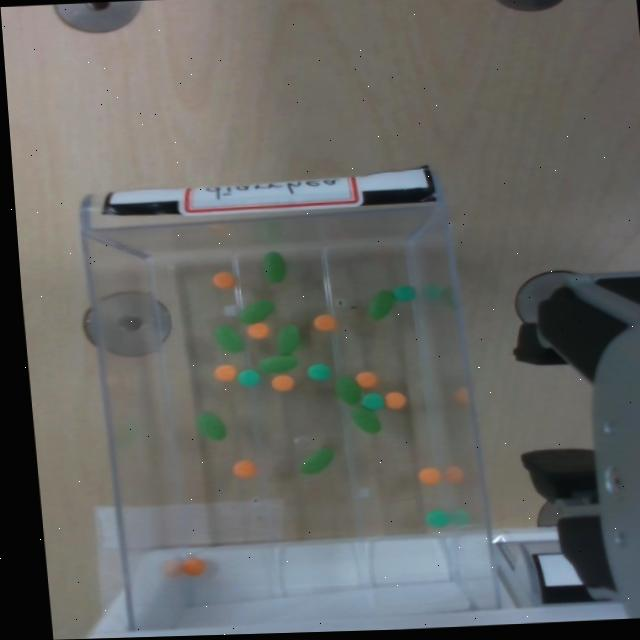famodine: (306, 362, 332, 382), (424, 509, 448, 528), (360, 392, 385, 410), (237, 368, 260, 386), (236, 368, 260, 385), (425, 509, 450, 525), (392, 284, 415, 301), (360, 391, 383, 408), (306, 363, 330, 379), (392, 284, 414, 299)
otillen_tab: (297, 445, 335, 474), (212, 322, 245, 354), (237, 297, 276, 324), (195, 410, 228, 441), (365, 288, 397, 319), (348, 403, 380, 433), (274, 322, 303, 354), (259, 249, 288, 281), (333, 373, 362, 404), (300, 446, 333, 473), (196, 411, 226, 439), (213, 323, 243, 351), (238, 298, 273, 322), (256, 353, 297, 373), (350, 404, 379, 431), (367, 289, 394, 317), (275, 323, 300, 353), (261, 250, 285, 281), (335, 374, 361, 402), (257, 354, 296, 372)
samsung_octylonium_tab: (178, 556, 206, 574), (232, 458, 255, 478), (232, 458, 256, 477), (181, 556, 204, 575), (313, 313, 337, 331), (211, 270, 234, 288), (383, 389, 406, 407), (211, 269, 234, 287), (270, 373, 294, 390), (354, 370, 378, 387), (417, 466, 441, 483), (245, 321, 269, 338), (384, 390, 406, 408), (214, 363, 237, 380), (213, 363, 237, 379), (356, 369, 377, 387), (247, 322, 269, 339), (417, 466, 439, 483), (313, 312, 335, 329)
